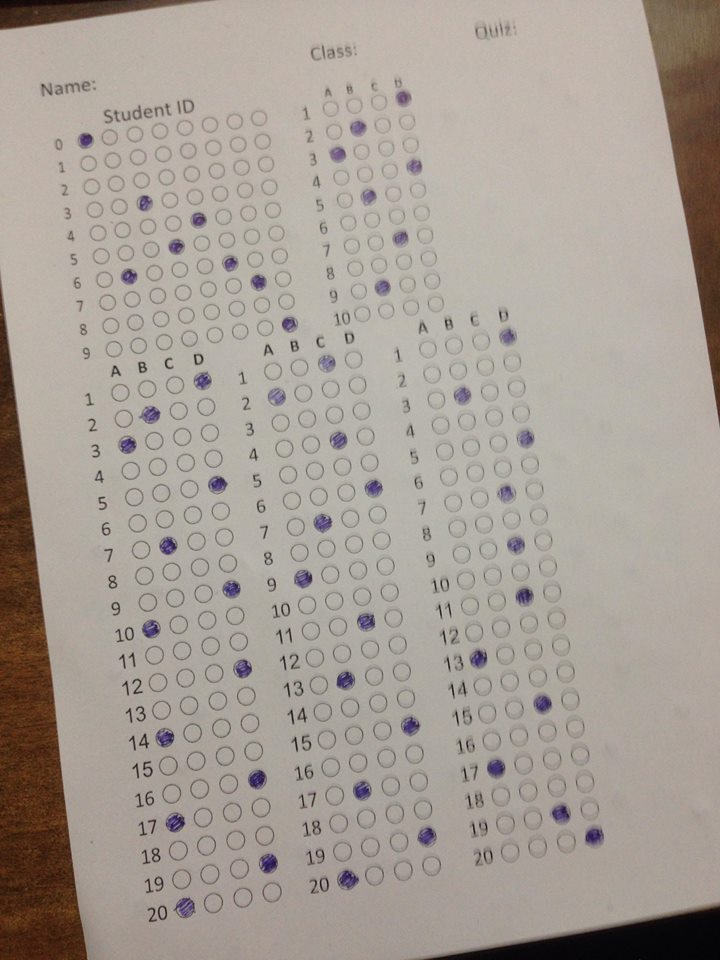not-c: (557, 830, 579, 856), (160, 782, 182, 805), (545, 776, 567, 799), (486, 589, 506, 614), (150, 700, 172, 722), (214, 745, 236, 767), (262, 881, 284, 903), (531, 532, 553, 554), (200, 862, 221, 885), (201, 892, 224, 913), (556, 662, 577, 685), (231, 888, 255, 908), (336, 482, 356, 506), (323, 786, 347, 806), (422, 854, 442, 878), (226, 831, 248, 852), (170, 869, 192, 890), (277, 464, 298, 486), (340, 698, 362, 719), (343, 725, 364, 747), (507, 379, 529, 400), (363, 866, 386, 886), (128, 335, 149, 356), (196, 397, 217, 418), (180, 696, 201, 717), (183, 722, 204, 743), (251, 798, 272, 819), (167, 840, 188, 861), (228, 858, 249, 879), (289, 542, 310, 563), (372, 531, 393, 552), (393, 662, 414, 683), (347, 752, 368, 773), (381, 776, 402, 797), (386, 803, 407, 824), (332, 841, 353, 862), (499, 671, 520, 692), (527, 667, 548, 688), (166, 587, 186, 609), (194, 584, 214, 606), (196, 836, 218, 856), (392, 860, 414, 880), (417, 338, 437, 360), (479, 383, 501, 403), (474, 514, 494, 536), (538, 557, 558, 579), (473, 675, 493, 697), (560, 689, 580, 711), (507, 727, 529, 747), (513, 755, 535, 775), (522, 809, 544, 829), (579, 800, 599, 822), (154, 510, 177, 529), (311, 703, 334, 722), (476, 704, 499, 723), (242, 742, 266, 760), (152, 483, 172, 504), (137, 592, 158, 612), (204, 663, 224, 684), (185, 751, 206, 771), (218, 773, 239, 793), (309, 487, 329, 508), (325, 591, 346, 611), (302, 620, 322, 641), (373, 720, 393, 741), (320, 757, 341, 777), (376, 749, 397, 769), (413, 800, 433, 821), (390, 832, 410, 853), (493, 459, 514, 479), (529, 507, 549, 528), (460, 596, 480, 617), (547, 610, 568, 630), (523, 641, 544, 661), (551, 637, 572, 657), (569, 745, 589, 766), (529, 838, 550, 858), (224, 113, 246, 132), (186, 532, 208, 551), (219, 553, 238, 575), (157, 756, 179, 775), (194, 806, 213, 828), (281, 492, 303, 511), (517, 614, 539, 633), (500, 842, 519, 864), (143, 645, 163, 665), (189, 780, 209, 800), (333, 457, 353, 477), (396, 690, 416, 710), (478, 542, 498, 562), (542, 750, 562, 770), (149, 122, 170, 141), (141, 241, 162, 260), (137, 380, 158, 399), (113, 409, 134, 428), (176, 453, 197, 472), (163, 561, 182, 582), (175, 669, 196, 688), (237, 686, 256, 707), (255, 826, 276, 845), (350, 401, 371, 420), (287, 516, 306, 537), (305, 648, 326, 667), (368, 694, 389, 713), (426, 391, 447, 410), (489, 433, 508, 454), (521, 456, 542, 475), (471, 490, 490, 511), (214, 529, 236, 547), (199, 638, 221, 656), (369, 503, 387, 525), (315, 731, 337, 749), (328, 815, 350, 833), (471, 333, 493, 351), (490, 620, 512, 638), (203, 450, 223, 469), (180, 480, 200, 499), (184, 506, 204, 525), (212, 502, 232, 521), (149, 673, 169, 692), (209, 692, 228, 712), (294, 383, 314, 402), (301, 435, 321, 454), (380, 583, 399, 603), (357, 810, 377, 829), (362, 838, 381, 858), (503, 354, 523, 373), (431, 416, 451, 435), (484, 409, 504, 428), (439, 468, 458, 488), (467, 462, 486, 482), (448, 519, 468, 538), (502, 511, 522, 530), (451, 545, 471, 564), (538, 723, 557, 743), (517, 782, 537, 801), (383, 610, 404, 628), (506, 699, 524, 720), (174, 640, 191, 662), (476, 359, 498, 376), (490, 788, 512, 805), (100, 126, 119, 145), (177, 118, 196, 137), (211, 184, 230, 203), (164, 213, 183, 232), (144, 432, 163, 451), (121, 462, 140, 481), (125, 487, 144, 506), (135, 567, 154, 586), (360, 455, 379, 474), (321, 565, 340, 584), (329, 619, 348, 638), (410, 772, 429, 791), (269, 224, 287, 244), (97, 294, 117, 312), (152, 309, 170, 329), (104, 338, 122, 358), (181, 329, 199, 349), (131, 539, 149, 559), (197, 612, 217, 630), (226, 606, 244, 626), (212, 719, 232, 737), (224, 804, 242, 824), (305, 461, 323, 481), (341, 511, 361, 529), (347, 561, 367, 579), (353, 586, 371, 606), (359, 640, 379, 658), (364, 668, 384, 686), (446, 336, 464, 356), (423, 366, 443, 384), (436, 442, 454, 462), (461, 440, 481, 458), (512, 562, 532, 580), (496, 647, 516, 665), (496, 816, 516, 834), (370, 94, 391, 111), (419, 250, 440, 267), (298, 411, 319, 428), (442, 495, 464, 511), (250, 110, 269, 128), (128, 148, 147, 166), (131, 171, 149, 190), (209, 161, 227, 180), (232, 158, 251, 176), (257, 156, 276, 174), (215, 208, 234, 226), (116, 244, 135, 262), (219, 232, 237, 251), (200, 281, 219, 299), (177, 306, 195, 325), (253, 295, 272, 313), (206, 327, 225, 345), (111, 383, 129, 402), (174, 428, 192, 447), (201, 424, 219, 443), (169, 615, 187, 634), (230, 634, 249, 652), (377, 140, 396, 158), (369, 257, 388, 275), (394, 253, 413, 271), (399, 275, 417, 294), (322, 380, 340, 399), (348, 377, 367, 395), (324, 406, 343, 424), (276, 439, 294, 458), (310, 676, 329, 694), (449, 362, 468, 380), (458, 412, 477, 430), (483, 731, 501, 750), (576, 772, 595, 790), (205, 138, 222, 158), (228, 136, 248, 153), (174, 284, 194, 301), (154, 333, 174, 350), (170, 400, 187, 420), (192, 559, 209, 579), (373, 117, 393, 134), (387, 208, 407, 225), (352, 305, 372, 322), (264, 364, 284, 381), (543, 583, 560, 603), (161, 192, 179, 210), (114, 221, 132, 239), (271, 248, 289, 266), (130, 514, 148, 532), (291, 358, 309, 376), (344, 351, 362, 369), (357, 430, 375, 448), (346, 536, 364, 554), (334, 646, 352, 664), (406, 745, 424, 763), (485, 568, 503, 586), (465, 624, 483, 642), (200, 116, 219, 133), (178, 142, 197, 159), (157, 169, 176, 186), (196, 258, 213, 277), (224, 279, 243, 296), (127, 314, 146, 331), (167, 377, 184, 396), (149, 459, 168, 476), (242, 716, 261, 733), (320, 100, 339, 117), (399, 113, 416, 132), (351, 142, 370, 159), (339, 215, 358, 232), (379, 301, 396, 320), (272, 414, 291, 431), (511, 407, 530, 424), (246, 251, 266, 267), (231, 324, 251, 340), (298, 598, 318, 614), (104, 151, 122, 168), (256, 132, 273, 150), (237, 182, 255, 199), (262, 179, 280, 196), (139, 218, 157, 235), (266, 201, 283, 219), (102, 317, 120, 334), (279, 292, 297, 309), (336, 193, 354, 210), (367, 234, 384, 252), (350, 283, 368, 300), (403, 299, 421, 316), (317, 541, 335, 558), (376, 557, 394, 574), (526, 481, 544, 498), (567, 720, 584, 738), (96, 271, 112, 290), (413, 206, 432, 222), (345, 261, 364, 277), (389, 638, 408, 654), (244, 229, 261, 246), (123, 291, 140, 308), (346, 97, 363, 114), (80, 155, 96, 173), (154, 146, 172, 162), (183, 167, 201, 183), (187, 189, 203, 207), (193, 236, 211, 252), (171, 262, 189, 278), (150, 287, 166, 305), (326, 123, 342, 141), (382, 163, 400, 179), (240, 207, 259, 222), (146, 266, 165, 281), (227, 301, 246, 316), (112, 199, 129, 215), (275, 272, 292, 288), (257, 319, 274, 335), (410, 183, 427, 199), (425, 273, 441, 290), (458, 572, 474, 589), (94, 246, 109, 264), (332, 170, 350, 185), (343, 239, 361, 254), (82, 180, 101, 194), (88, 201, 104, 217), (89, 226, 106, 241), (364, 212, 381, 227), (203, 305, 221, 319), (108, 177, 124, 192), (127, 126, 141, 143), (404, 137, 419, 152), (357, 167, 372, 182), (387, 187, 403, 201), (428, 297, 444, 311), (417, 230, 433, 243)
taken-c: (583, 825, 606, 851), (334, 867, 358, 890), (174, 895, 196, 919), (257, 852, 279, 875), (531, 692, 553, 715), (316, 353, 338, 375), (495, 483, 517, 505), (165, 811, 186, 834), (497, 327, 520, 348), (467, 646, 488, 669), (117, 434, 138, 456), (513, 586, 535, 607), (335, 669, 356, 691), (416, 826, 437, 848), (550, 802, 571, 824), (192, 370, 213, 391), (158, 535, 179, 556), (514, 429, 535, 450), (363, 478, 384, 499), (247, 768, 267, 790), (266, 387, 288, 407), (352, 779, 372, 801), (485, 756, 505, 778), (154, 727, 175, 747), (328, 429, 348, 450), (312, 512, 333, 532), (355, 612, 376, 632), (399, 715, 419, 736), (506, 533, 525, 555), (293, 567, 312, 589), (140, 404, 160, 424), (233, 658, 253, 678), (141, 619, 162, 638), (394, 88, 413, 109), (248, 272, 268, 291), (207, 475, 227, 494), (222, 579, 241, 599), (348, 118, 367, 138), (405, 156, 424, 176), (390, 228, 410, 247), (374, 277, 393, 297), (452, 386, 472, 405), (119, 267, 138, 286), (328, 144, 346, 163), (221, 254, 239, 272), (188, 210, 207, 227), (359, 186, 376, 205), (77, 131, 94, 149), (168, 237, 185, 255), (136, 194, 153, 211), (281, 315, 298, 332)
